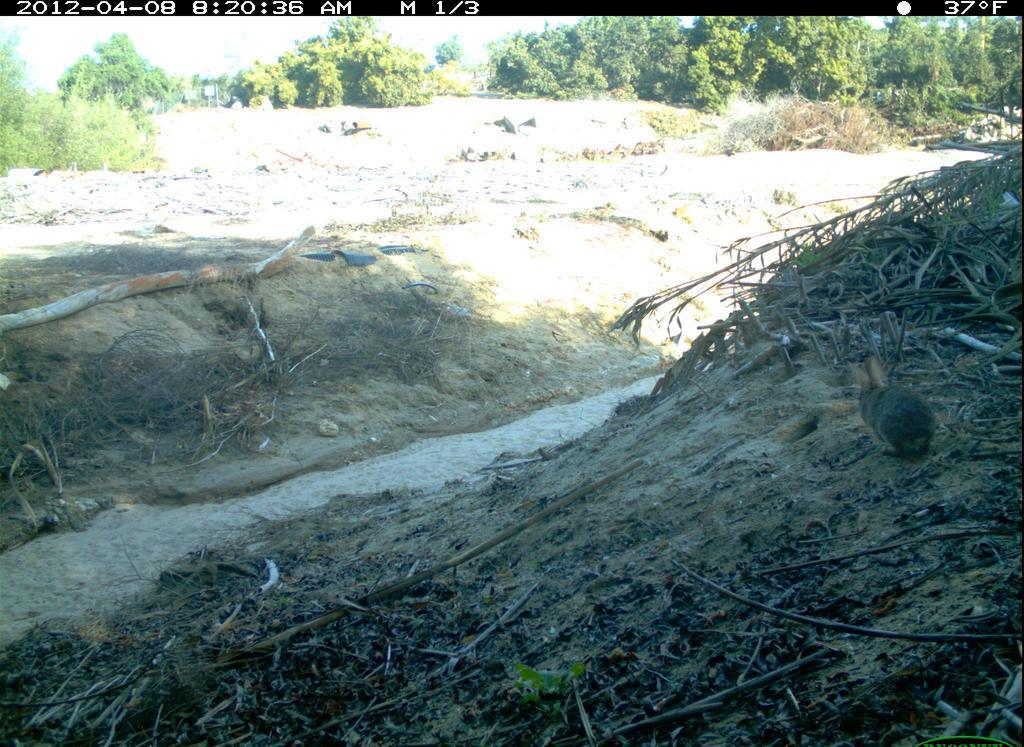rabbit: (841, 345, 945, 464)
